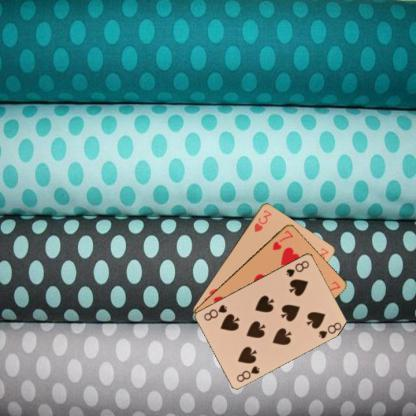3h: (251, 207, 273, 233)
7h: (270, 228, 294, 252)
8s: (234, 363, 261, 383), (284, 258, 310, 278)
